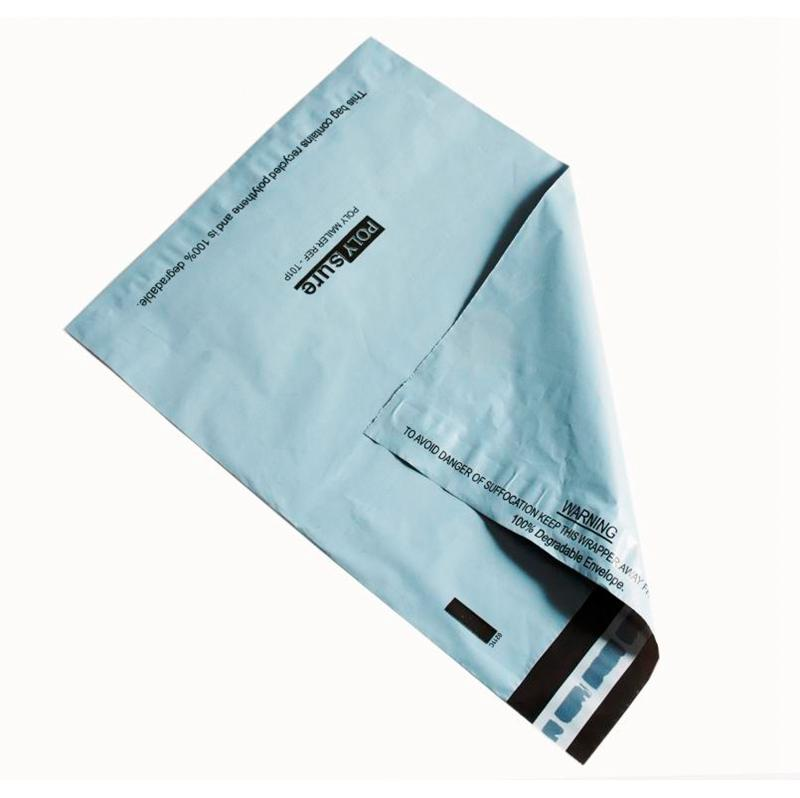塑料袋: (67, 40, 658, 763)
